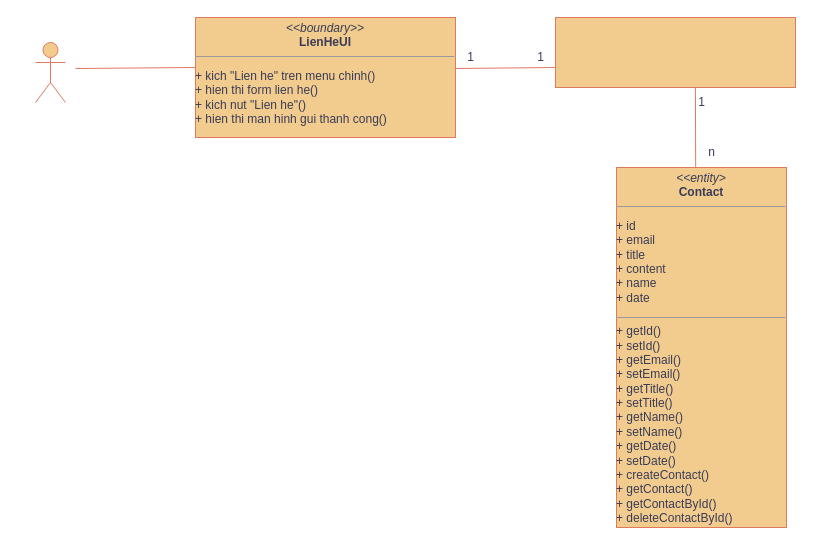
This 813x545 diagram has some shape labels left out. The shapes that lost their labels are listed below. From the top down, each one's centre as x and y in pixels, then its label:
At (x=50, y=72): "KhachHang".
At (x=675, y=52): "<<Control>> LienHe Controller + tao thong tin lien he()".
